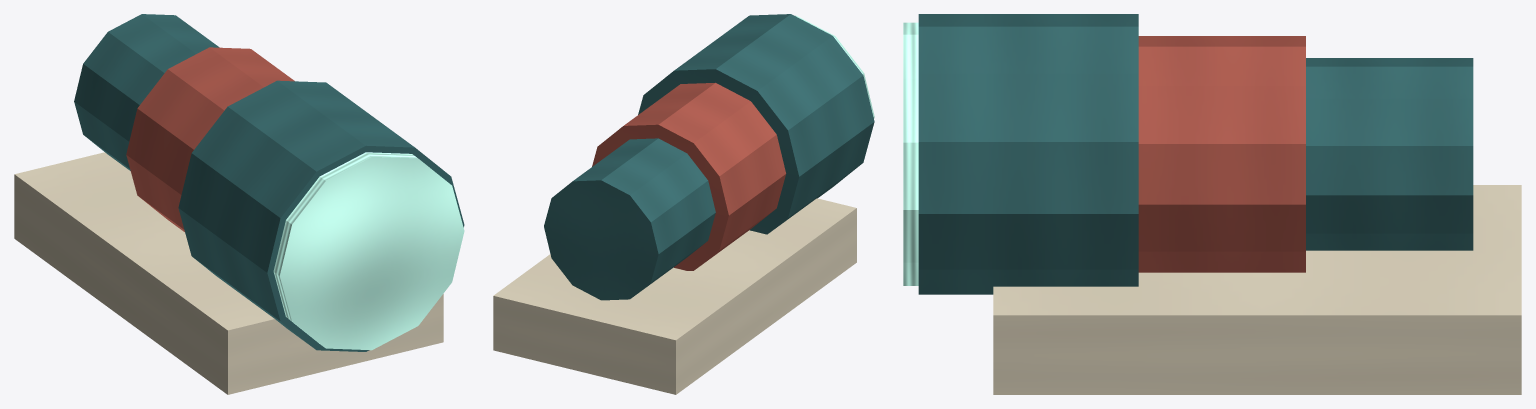
File: atlas100-s036-a05.glb
3 renders of one model, left to right at view 1: azimuth 30°, elevation 25°; view 2: azimuth 150°, elevation 25°; view 3: azimuth 270°, elevation 25°, orthographic. The views are drawn at different scales.
Parts seen in each view (by area): view 1: atlas100-s036-a05:part-004, atlas100-s036-a05:part-003, atlas100-s036-a05:part-002, atlas100-s036-a05:part-001, atlas100-s036-a05:part-000; view 2: atlas100-s036-a05:part-004, atlas100-s036-a05:part-002, atlas100-s036-a05:part-000, atlas100-s036-a05:part-001; view 3: atlas100-s036-a05:part-004, atlas100-s036-a05:part-002, atlas100-s036-a05:part-001, atlas100-s036-a05:part-000, atlas100-s036-a05:part-003.
Boxes of the visible parts, left/top/right/bottom form: atlas100-s036-a05:part-004: left=14, top=152, right=443, bottom=394; atlas100-s036-a05:part-003: left=273, top=152, right=464, bottom=350; atlas100-s036-a05:part-002: left=178, top=80, right=464, bottom=351; atlas100-s036-a05:part-001: left=126, top=47, right=294, bottom=231; atlas100-s036-a05:part-000: left=74, top=14, right=219, bottom=170; atlas100-s036-a05:part-004: left=493, top=198, right=856, bottom=394; atlas100-s036-a05:part-002: left=638, top=14, right=874, bottom=234; atlas100-s036-a05:part-000: left=544, top=138, right=715, bottom=300; atlas100-s036-a05:part-001: left=592, top=82, right=786, bottom=270; atlas100-s036-a05:part-004: left=993, top=185, right=1521, bottom=394; atlas100-s036-a05:part-002: left=918, top=14, right=1138, bottom=294; atlas100-s036-a05:part-001: left=1138, top=36, right=1305, bottom=272; atlas100-s036-a05:part-000: left=1306, top=58, right=1473, bottom=250; atlas100-s036-a05:part-003: left=903, top=22, right=918, bottom=285.
Size of the model in its own units: 0.3822 by 0.415 by 0.7671.
4 materials, 4 textured.
